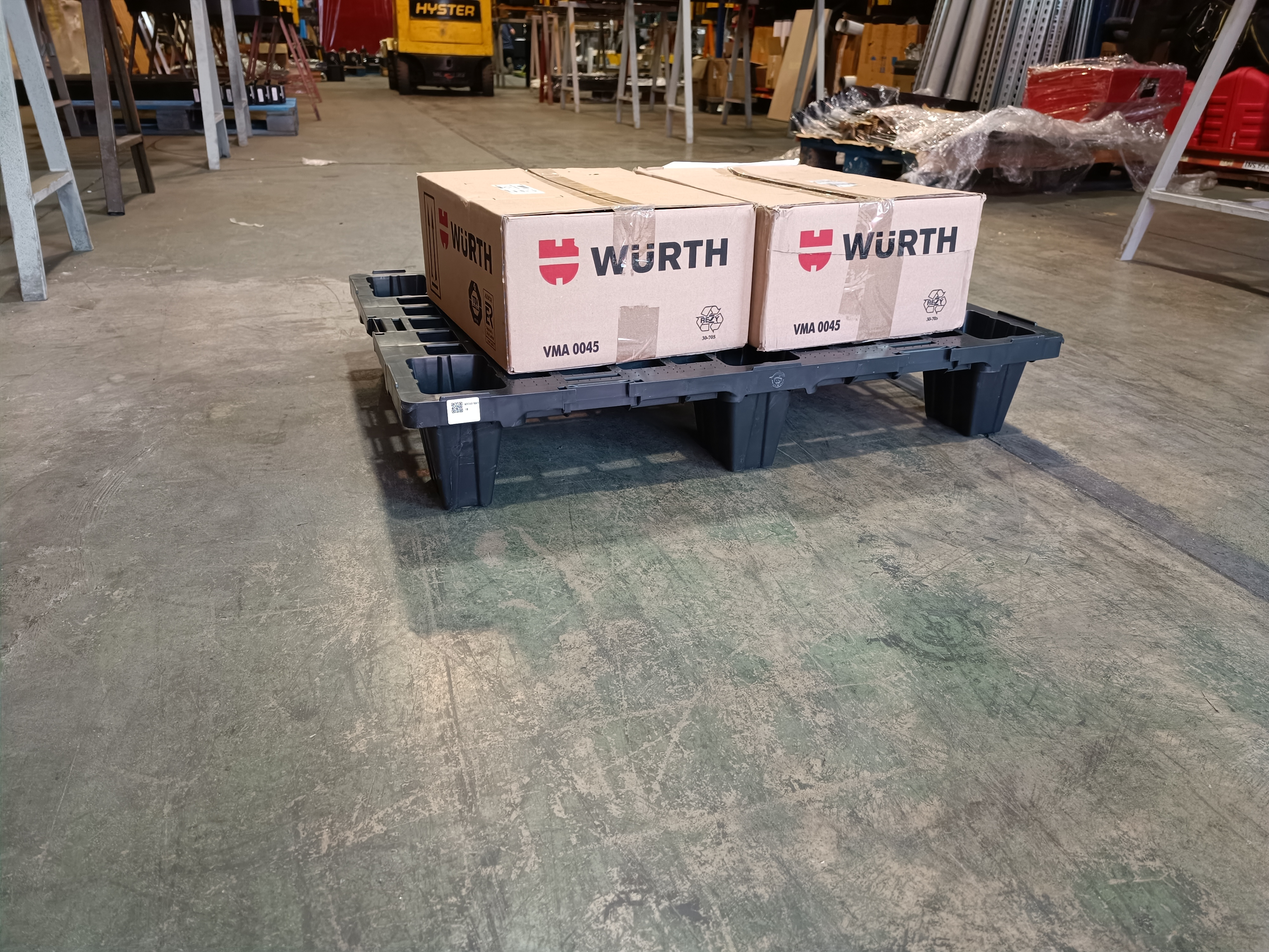block: (694, 386, 783, 481), (924, 358, 1027, 435), (416, 429, 504, 515)
front: (401, 337, 1060, 508)
hole pallet: (497, 397, 708, 492), (776, 369, 944, 462)
